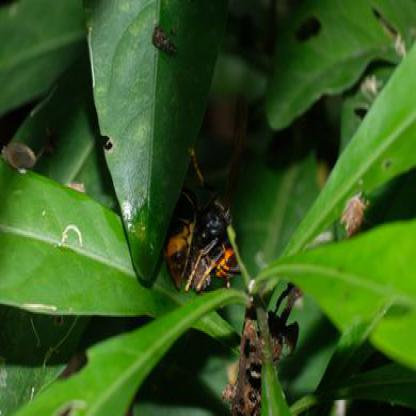Asian Hornet: (164, 180, 239, 307)
